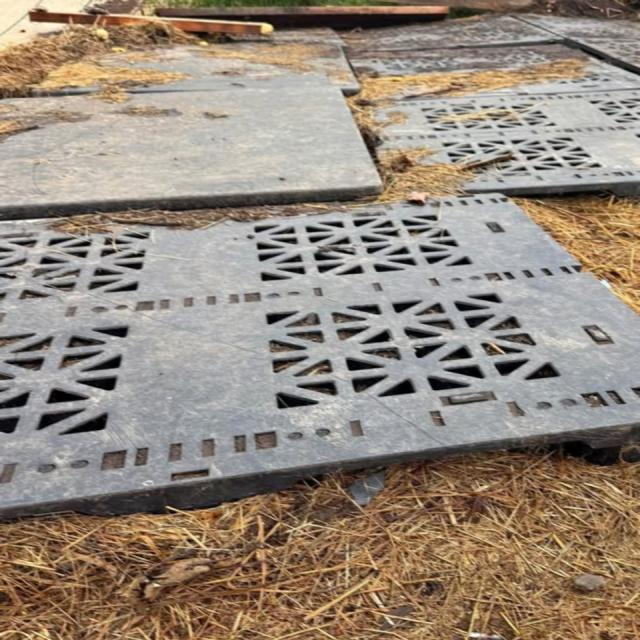non-igps: (0, 192, 639, 533), (0, 81, 389, 226), (359, 87, 640, 209), (342, 41, 640, 108)
